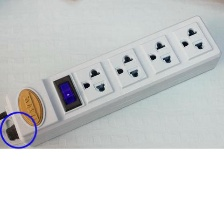three_eye_plug: (1, 12, 223, 150)
